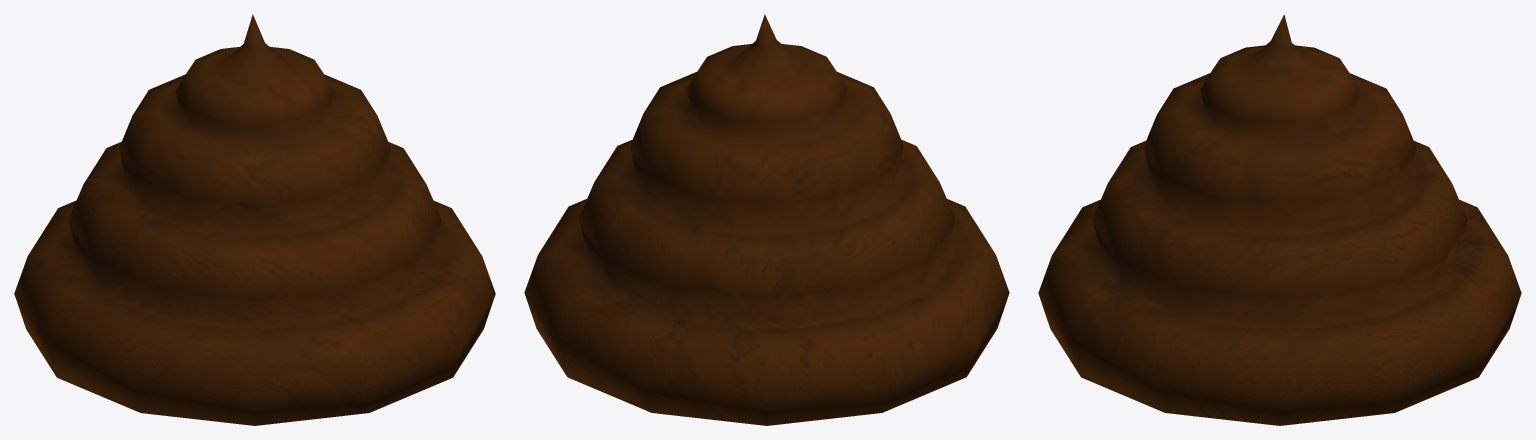
The model's file is shit.fbx.
3 views of the same model, side by side, from view 1: azimuth 30°, elevation 25°; view 2: azimuth 150°, elevation 25°; view 3: azimuth 270°, elevation 25° (orthographic).
Parts seen in each view (by area): view 1: Shit; view 2: Shit; view 3: Shit.
Boxes of the visible parts, left/top/right/bottom form: Shit: left=14, top=14, right=495, bottom=425; Shit: left=524, top=14, right=1009, bottom=425; Shit: left=1038, top=14, right=1521, bottom=425.
Size of the model in its own units: 0.4062 by 0.292 by 0.4062.
